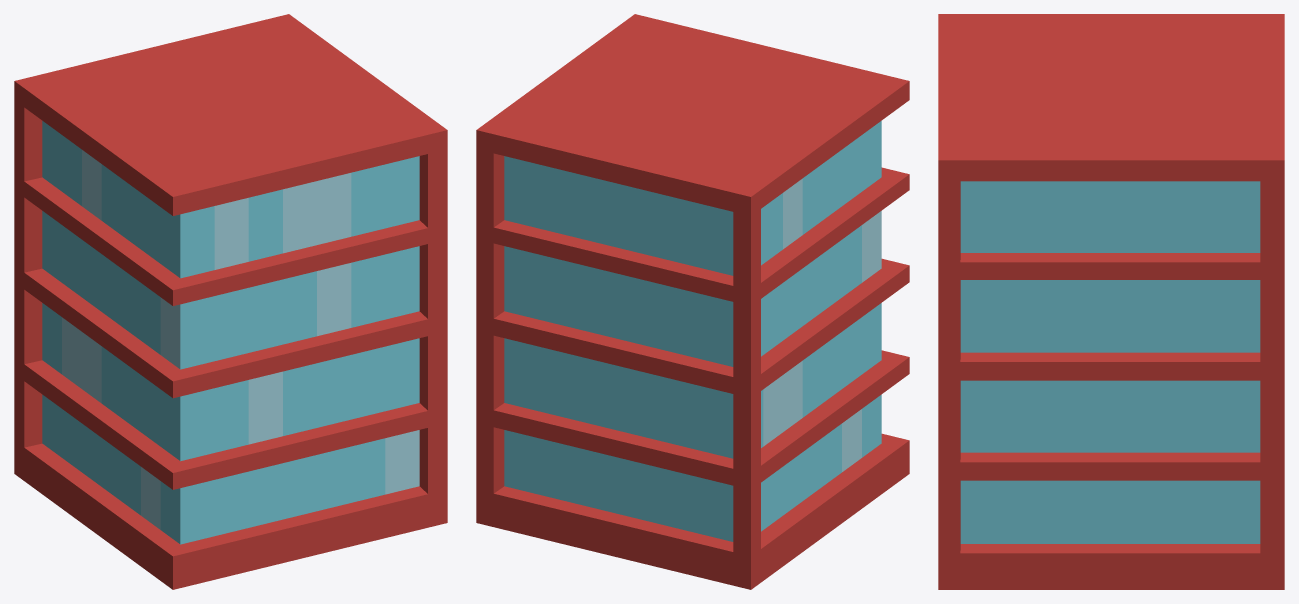
File: Apartmentv1.fbx
3 renders of one model, left to right at view 1: azimuth 30°, elevation 25°; view 2: azimuth 150°, elevation 25°; view 3: azimuth 270°, elevation 25°, orthographic. The views are drawn at different scales.
Parts seen in each view (by area): view 1: Cube; view 2: Cube; view 3: Cube.
Boxes of the visible parts, x1,y1,x2,y2 form: Cube: (14, 14, 447, 589); Cube: (476, 14, 909, 589); Cube: (938, 14, 1284, 589).
Size of the model in its own units: 230 by 314 by 230.
